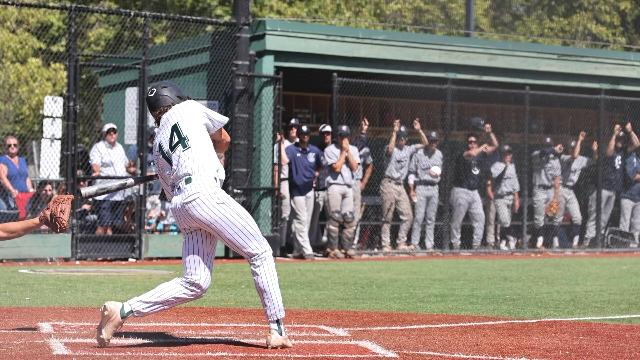ball: (429, 165, 443, 180)
bat: (78, 173, 160, 199)
